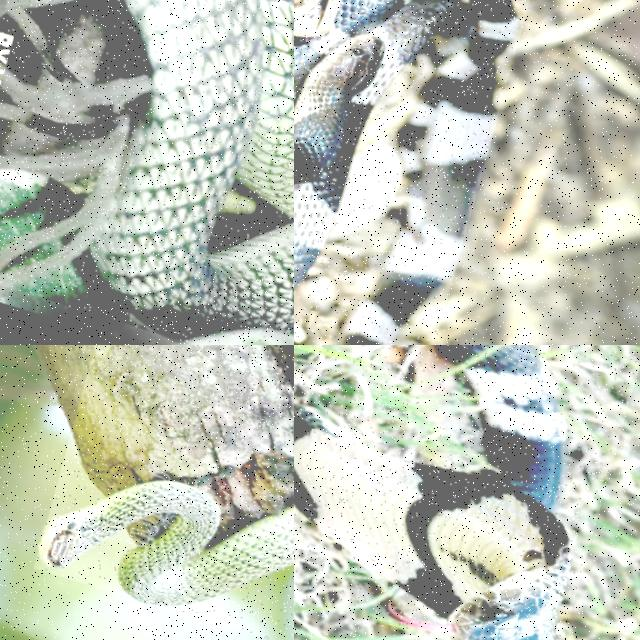Bungarus candidus: (341, 0, 516, 344)
Chrysopelea ornata: (94, 0, 293, 339), (40, 480, 293, 605)
Naja siamensis: (294, 345, 570, 639)
